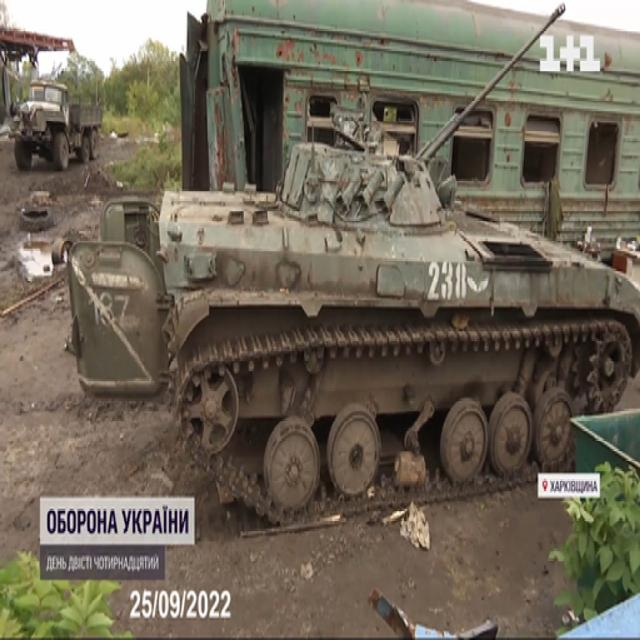APC-IFV: (165, 2, 639, 498)
TRUCK: (5, 85, 104, 166)
